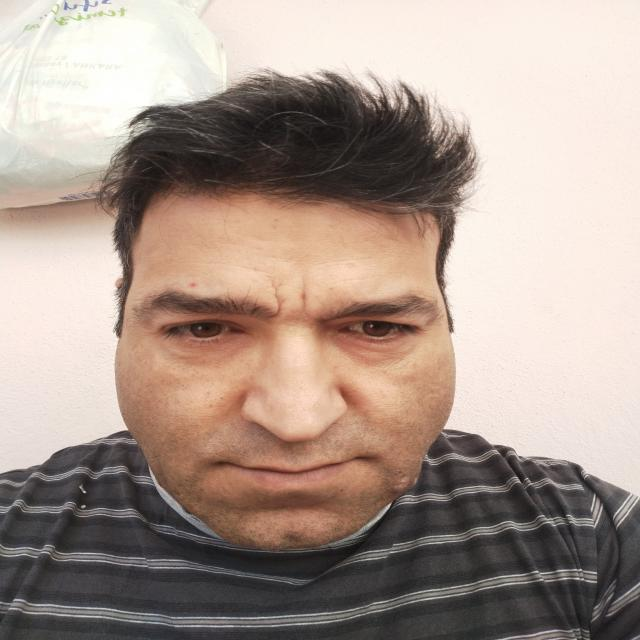Acne: (186, 281, 198, 289), (299, 291, 307, 301)
Blackheads: (202, 391, 223, 409)
Englarged-Pores: (345, 384, 426, 423), (153, 384, 218, 419), (282, 379, 312, 420)
Eyebags: (158, 332, 257, 371), (328, 331, 426, 367)
Wrinkles: (181, 260, 276, 275), (296, 274, 314, 324), (326, 273, 392, 285), (267, 278, 285, 319), (238, 234, 318, 242), (310, 256, 379, 264), (208, 240, 268, 248), (165, 347, 201, 358), (416, 322, 438, 335), (146, 327, 168, 338)
